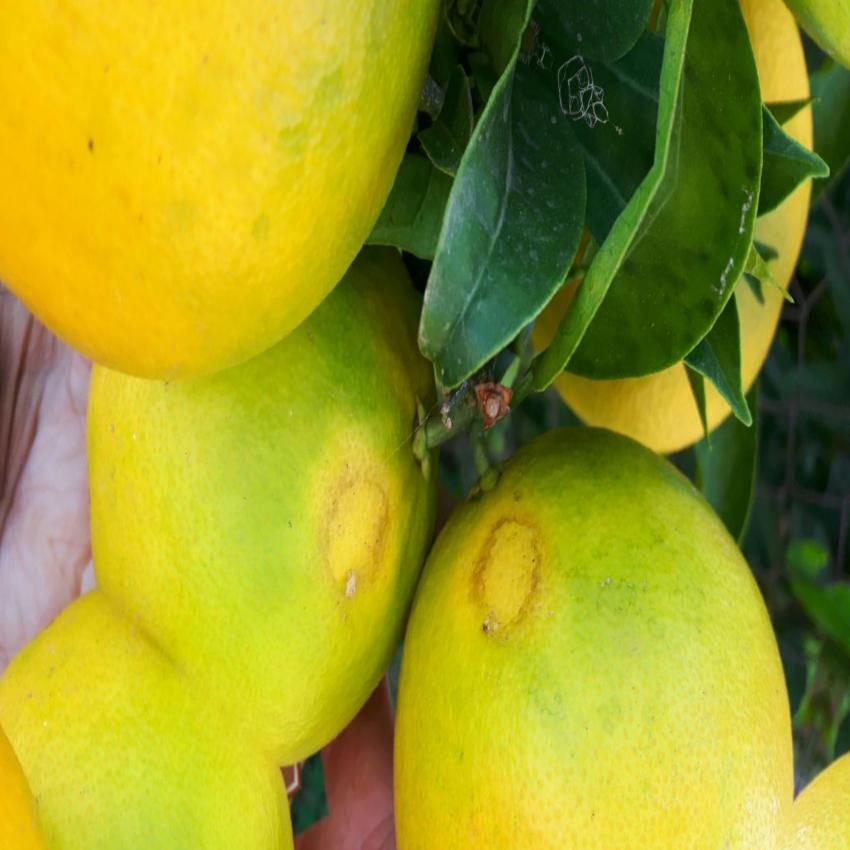Mal estado: (76, 246, 440, 756), (391, 445, 802, 842)
